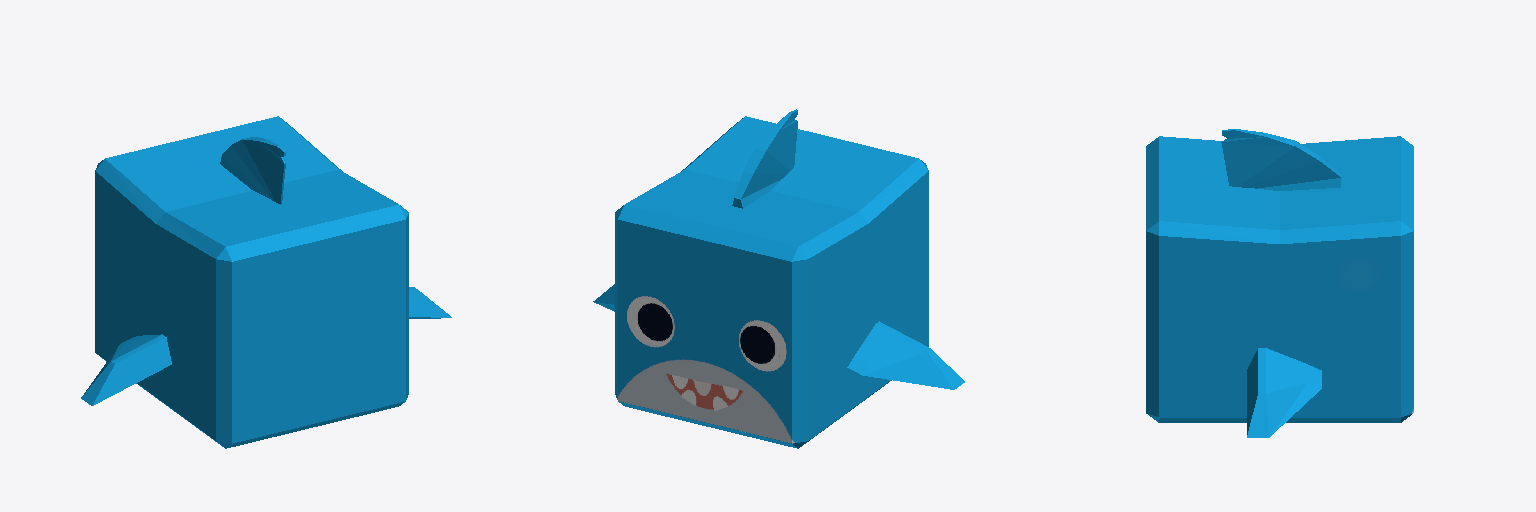
3 renders of one model, left to right at view 1: azimuth 30°, elevation 25°; view 2: azimuth 150°, elevation 25°; view 3: azimuth 270°, elevation 25°, orthographic.
Parts seen in each view (by area): view 1: Pcube181, Pcube191, Pcube201; view 2: Pcube181, Pcube191, Pcube201; view 3: Pcube181, Pcube201, Pcube191.
Boxes of the visible parts, x1,y1,x2,y2 form: Pcube181: [95, 116, 408, 448]; Pcube191: [81, 287, 451, 405]; Pcube201: [220, 137, 285, 204]; Pcube181: [615, 116, 928, 448]; Pcube191: [593, 284, 964, 389]; Pcube201: [732, 109, 797, 208]; Pcube181: [1146, 136, 1413, 422]; Pcube201: [1221, 129, 1341, 190]; Pcube191: [1247, 348, 1321, 437].
Size of the model in its own units: 2.39 by 1.6 by 1.54.
1 materials, 1 textured.